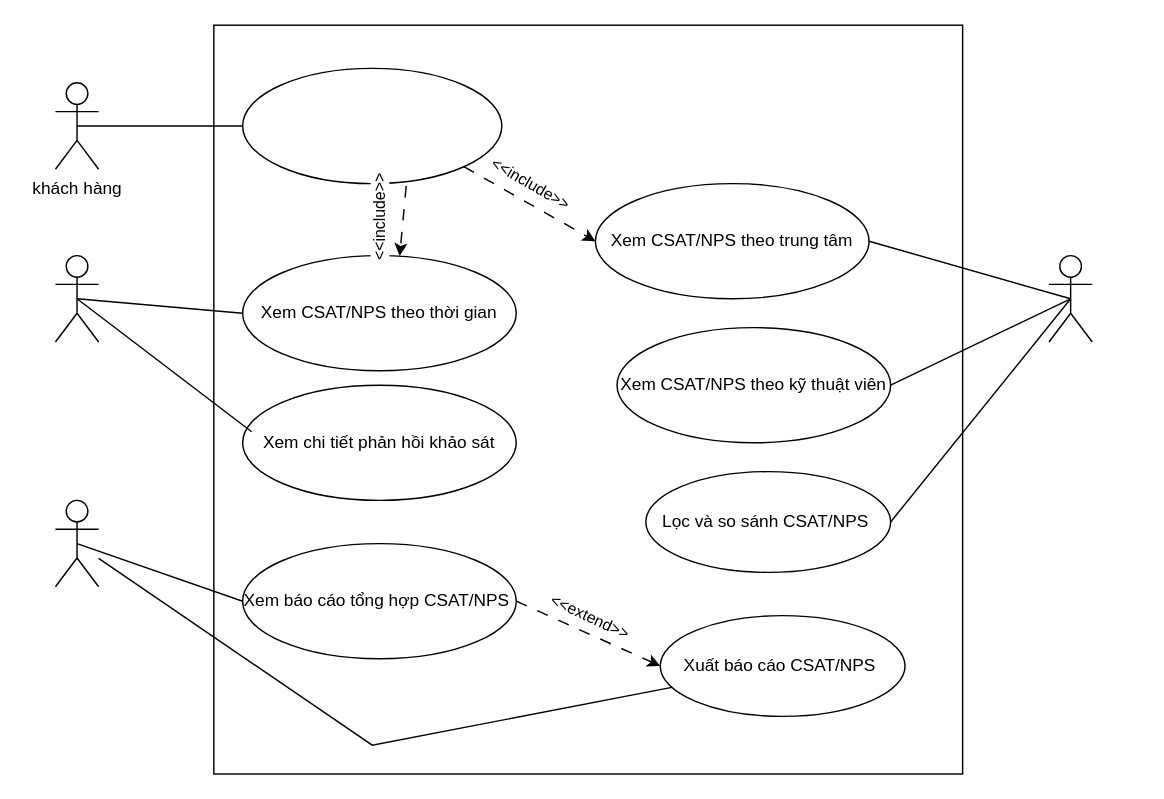
The diagram is 1164 pixels wide and 799 high, and some of its shapes have lost their labels. Each missing label, with the centre of its shape:
Ban giám đốc: point 76,543
Lưu phản hồi khảo sát CSAT/NPS: point 371,125
Marketing: point 76,298
Quản lý trung tâm: point 1070,298
